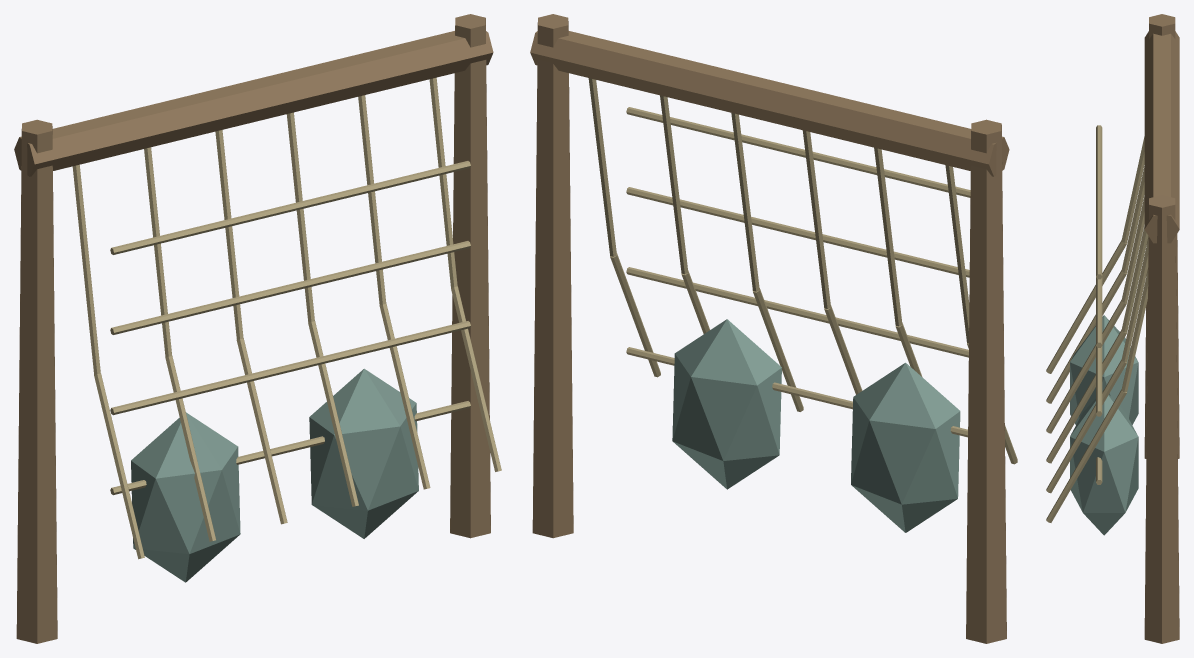
Rendered from map-exclusive-v3__shore_04.glb.
3 views of the same model, side by side, from view 1: azimuth 30°, elevation 25°; view 2: azimuth 150°, elevation 25°; view 3: azimuth 270°, elevation 25° (orthographic). The views are drawn at different scales.
Visible parts, largest first — view 1: shore_04; view 2: shore_04; view 3: shore_04.
Part boxes in pixels (bbox=[...]): shore_04: bbox=[14, 14, 501, 643]; shore_04: bbox=[530, 14, 1017, 643]; shore_04: bbox=[1046, 14, 1179, 643].
Bounding box in the file's own units: 1.86 × 1.9 × 0.5301.
